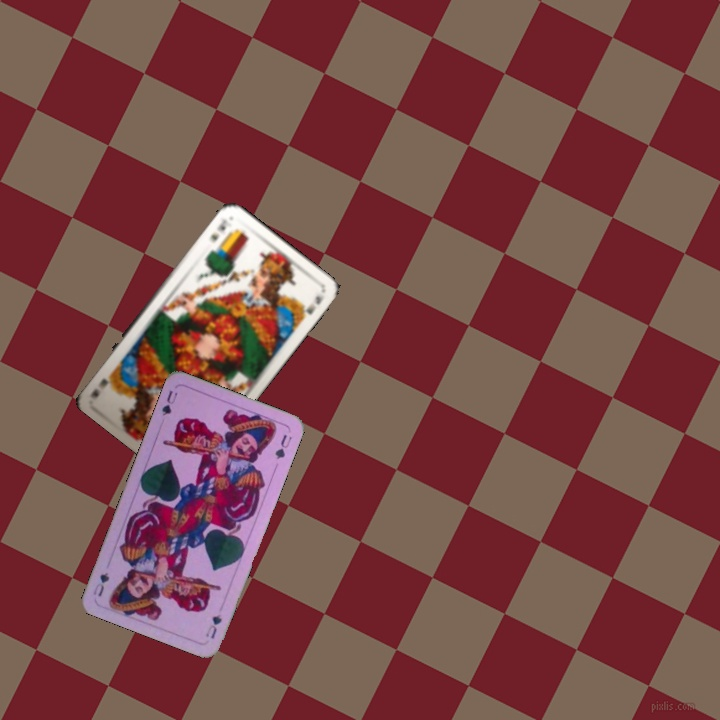EK: (206, 215, 228, 245)
GU: (201, 610, 225, 641), (158, 386, 180, 419)
